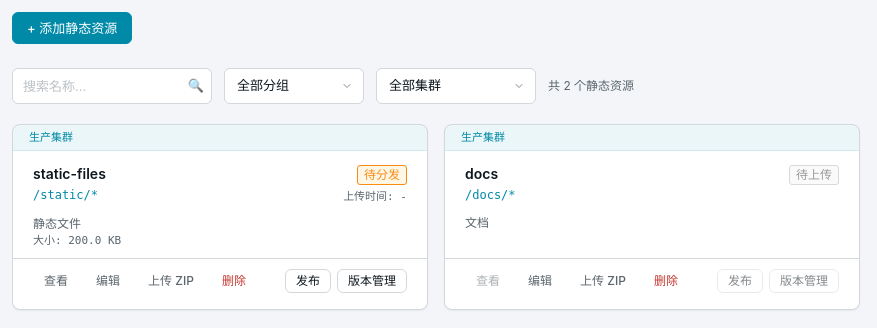
Test case: StaticResourceList.vue › does not conditionally display count on group filter — always uses totalCount from server
Select "线上" in the 1st dropdown at point(294, 86), box [224,68,364,104]
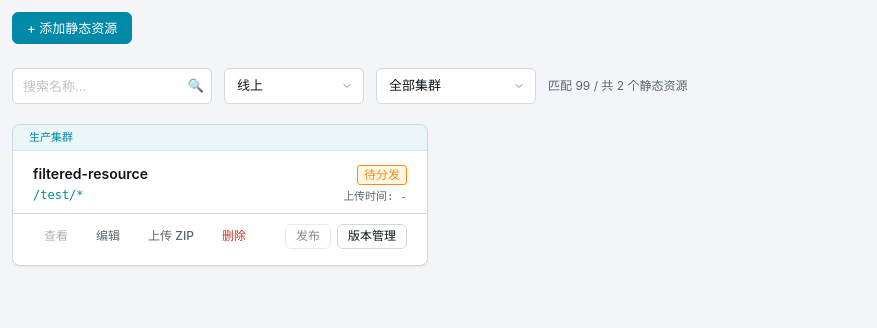
Expected: the text "匹配 99 / 共 2 个静态资源" is shown, [548,77,687,95]
